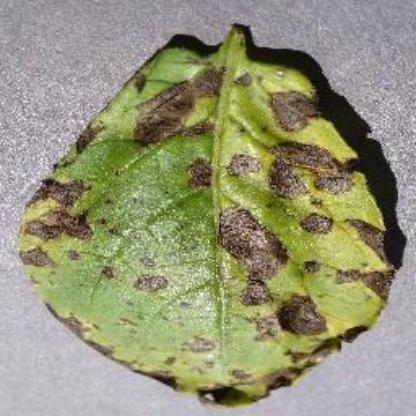Early-Blight: (19, 24, 395, 408)
